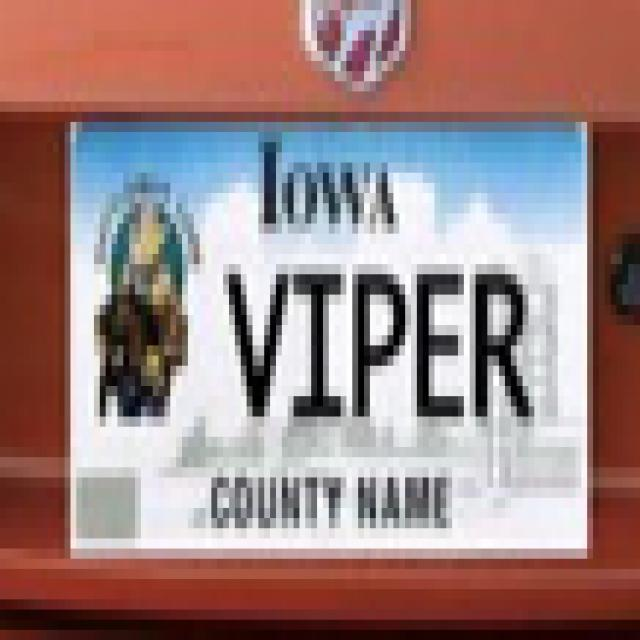E: (412, 243, 472, 440)
I: (290, 248, 346, 437)
P: (344, 250, 408, 438)
R: (469, 242, 537, 436)
V: (218, 245, 292, 440)
